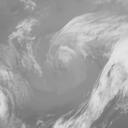cyclone: (48, 36, 83, 67)
